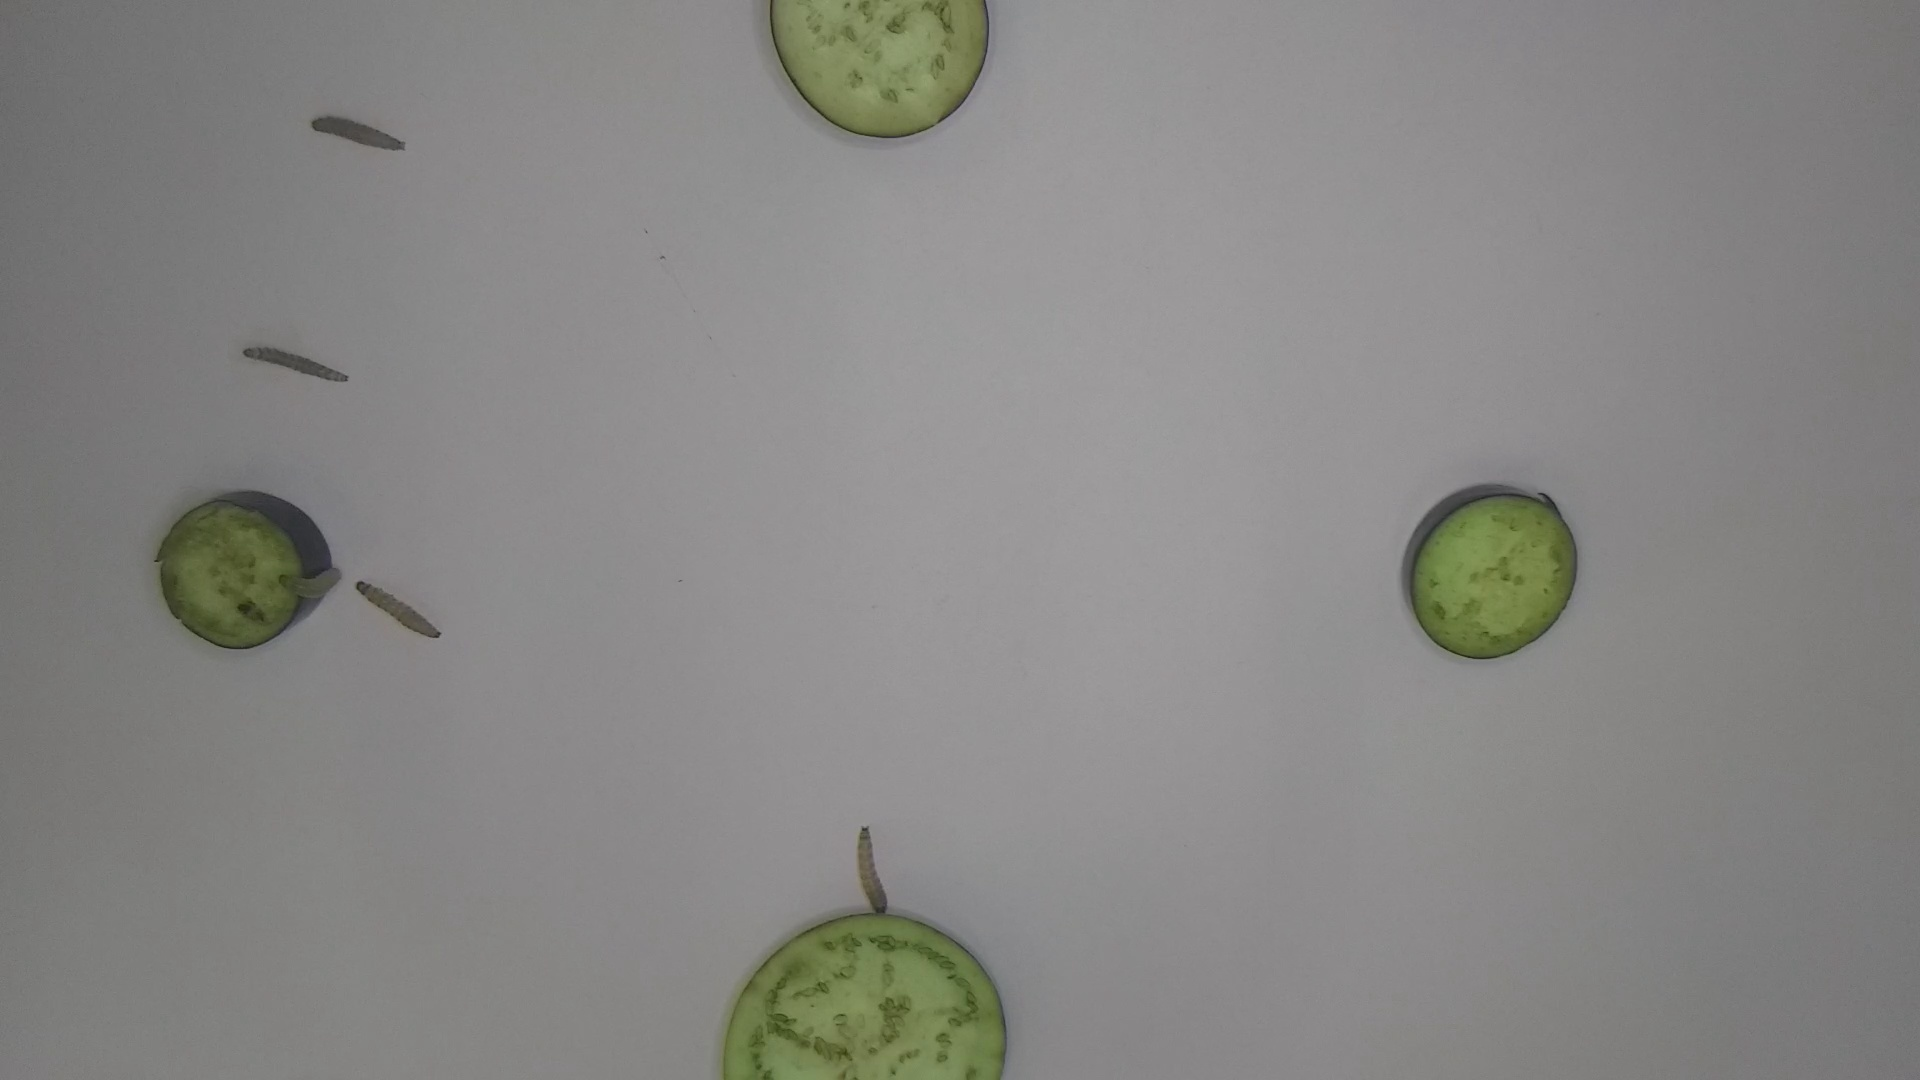efsb: (352, 579, 448, 646), (236, 342, 357, 394), (306, 107, 415, 156), (849, 815, 897, 920), (277, 564, 343, 601)
eggplant: (709, 907, 1019, 1080), (1393, 475, 1588, 671), (758, 1, 1000, 150), (153, 485, 338, 651)
